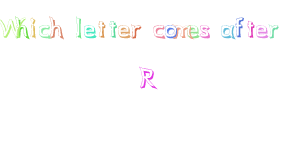R: (138, 65, 159, 90)
W: (1, 15, 20, 38)
a: (219, 23, 235, 39)
c: (37, 23, 51, 39), (152, 23, 165, 38)
e: (117, 23, 131, 40), (83, 23, 97, 39), (187, 23, 200, 38), (255, 24, 268, 39)
f: (233, 14, 245, 40)
h: (48, 15, 64, 41), (15, 16, 29, 40)
i: (29, 17, 39, 39)
l: (73, 16, 84, 39)
m: (173, 23, 192, 40)
o: (164, 23, 178, 39)
r: (130, 22, 142, 40), (268, 22, 279, 40)
s: (199, 23, 211, 39)
t: (96, 18, 108, 39), (108, 18, 118, 38), (246, 20, 256, 39)
